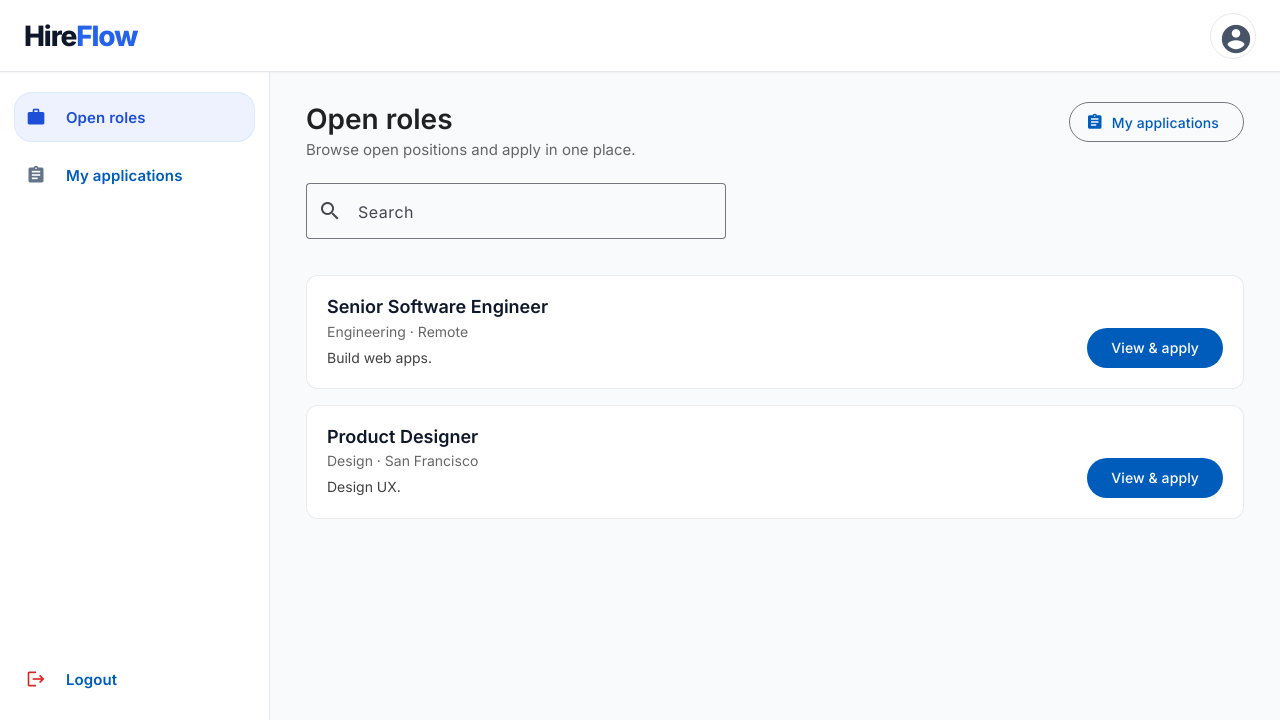
Candidate portal › lists open jobs and links to apply
This screenshot has width=1280, height=720.
Expected: the heading with test id "portal-jobs-title" reads "Open roles", left=306, top=102, right=453, bottom=136
Expected: the list with test id "portal-job-list" is shown, left=306, top=275, right=1244, bottom=519
Click the link "View & apply" in the row of "Engineering · Remote".
click(1155, 348)  # box left=1087, top=328, right=1223, bottom=368
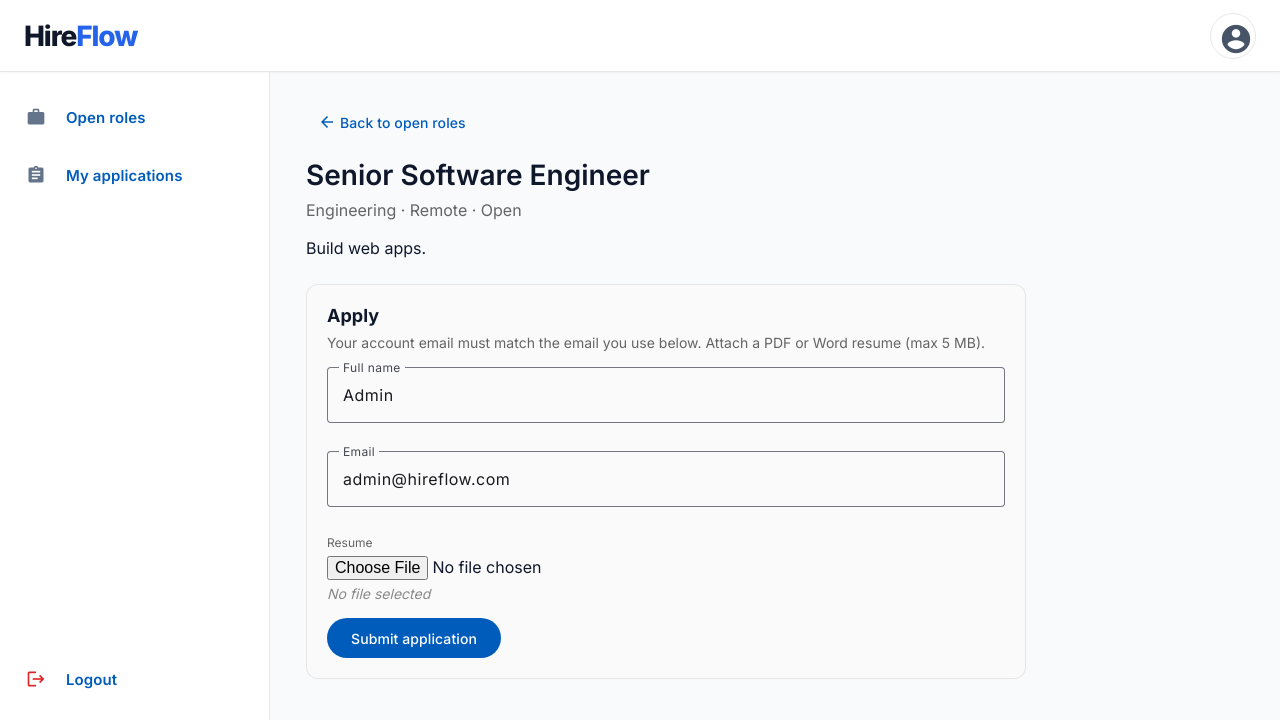
Expected: the element with test id "portal-apply-form" is shown, left=306, top=284, right=1026, bottom=679
